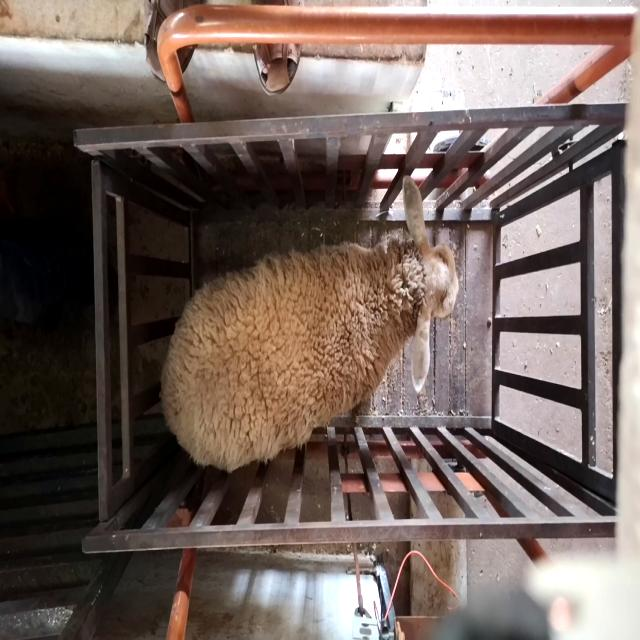sheep: (160, 175, 460, 473)
